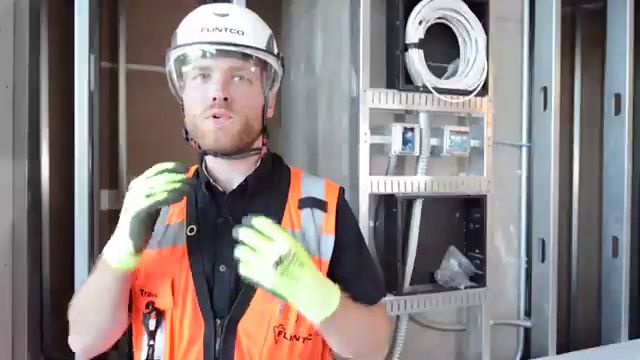helmet: (162, 1, 293, 97)
jacket: (109, 174, 349, 360)
